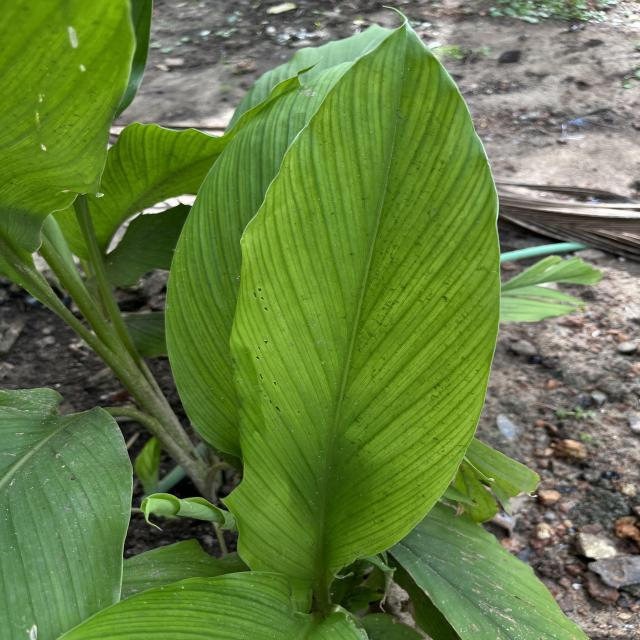Curcuma longa: (217, 4, 507, 585)
